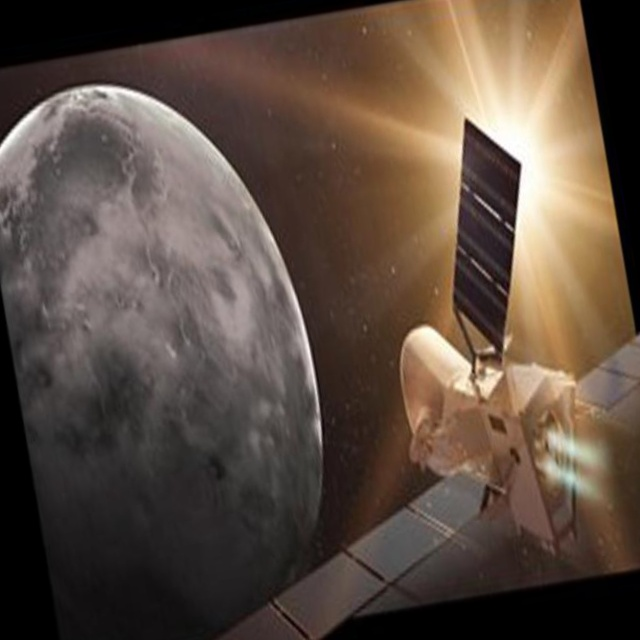medium_debris: (74, 54, 640, 640)
